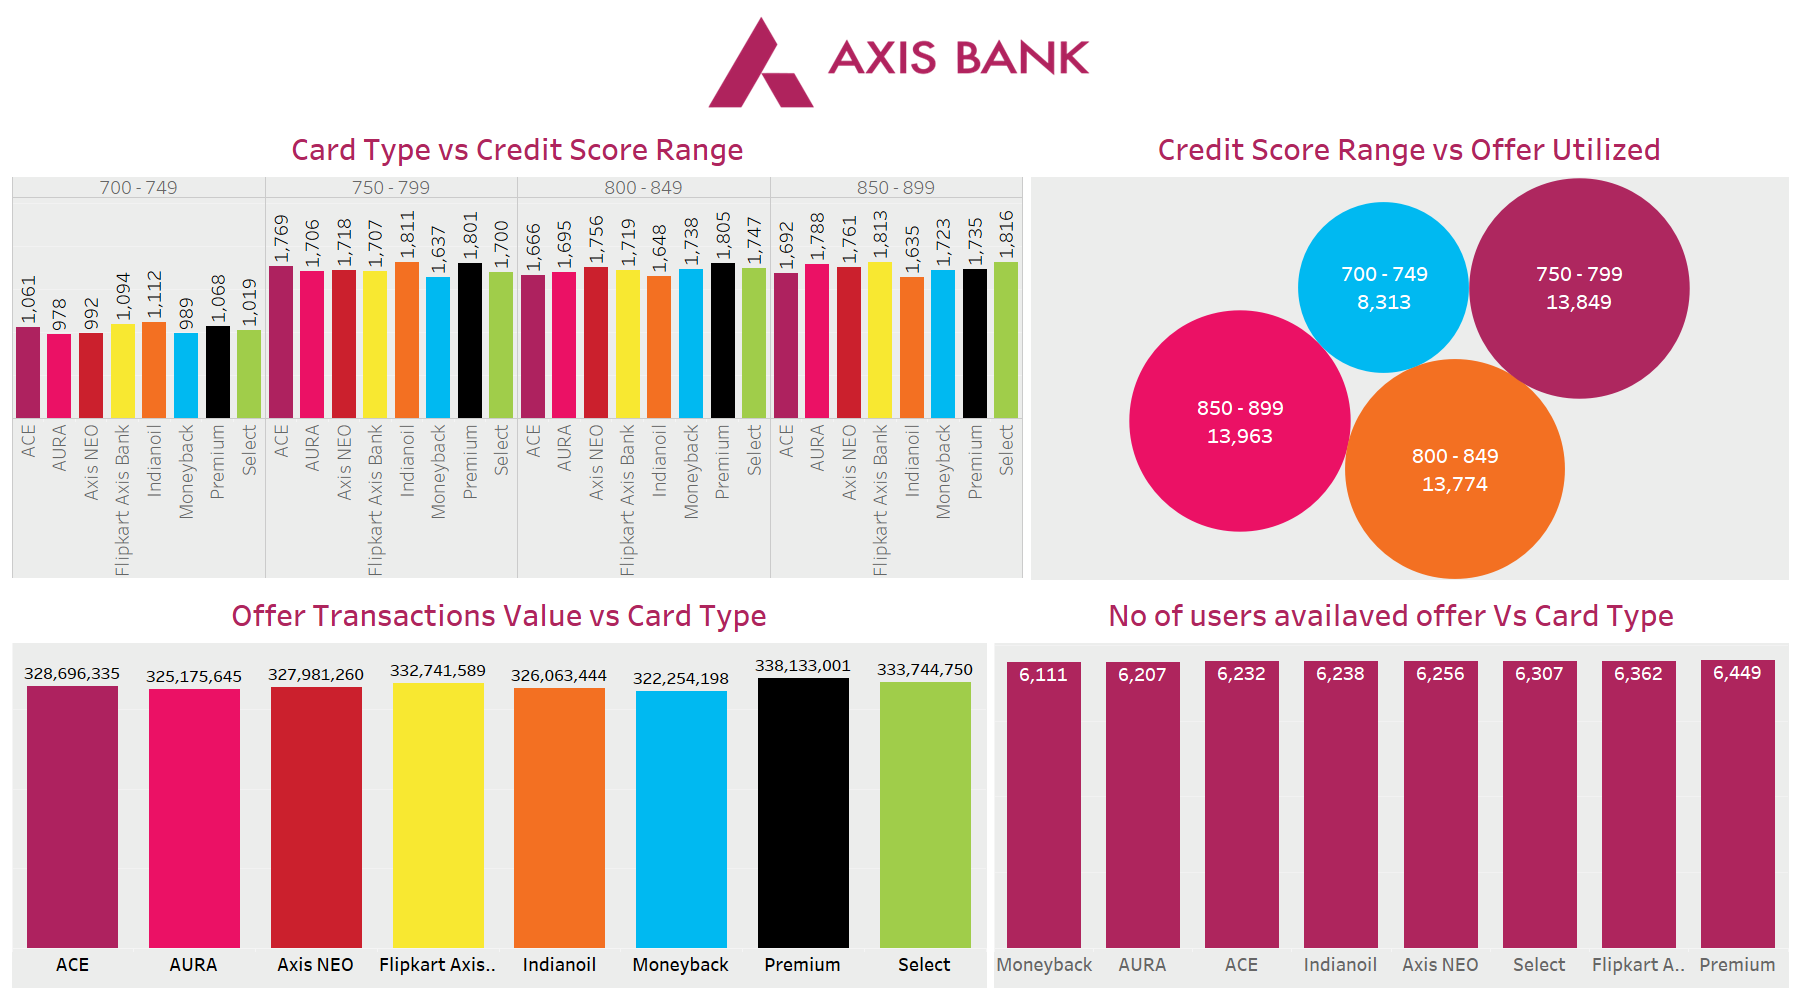

What the dashboard file says about the page in this screenshot:
{"tool":"tableau","page":{"name":"Axis Offer Dashboard","canvas":[1800,1000],"ordinal":1},"visuals":[{"type":"image","param":"E:/Development/BIGDATA/Axis_Bank_logo.svg.png","box":[8,8,1784,109]},{"type":"worksheet","title":"Card Type vs Credit Score Range","mark":"Automatic","rows":["Credit_Card_Type"],"cols":["Calculation_598415858664747012","Credit_Card_Type"],"box":[8,117,1019,466]},{"type":"worksheet","title":"Credit Score Range vs Offer Utilized","mark":"Circle","box":[1027,117,765,466]},{"type":"worksheet","title":"Offer Transactions Value vs Card Type","mark":"Automatic","cols":["Credit_Card_Type"],"box":[8,583,982,409]},{"type":"worksheet","title":"No of users availaved offer Vs Card Type","mark":"Bar","rows":["offer_utilized.csv_2A23E03966614681A2F1C546CB55A28F"],"cols":["Credit_Card_Type"],"box":[990,583,802,409]}]}

Visuals, with their boxes in screenshot pixels (x1, y1, x2, y2), scaled from the page's 1800x1000 canvas onto the 1800x1000 screenshot:
image: region(8, 8, 1792, 117)
"Card Type vs Credit Score Range" worksheet: region(8, 117, 1027, 583)
"Credit Score Range vs Offer Utilized" worksheet (Circle marks): region(1027, 117, 1792, 583)
"Offer Transactions Value vs Card Type" worksheet: region(8, 583, 990, 992)
"No of users availaved offer Vs Card Type" worksheet (Bar marks): region(990, 583, 1792, 992)
